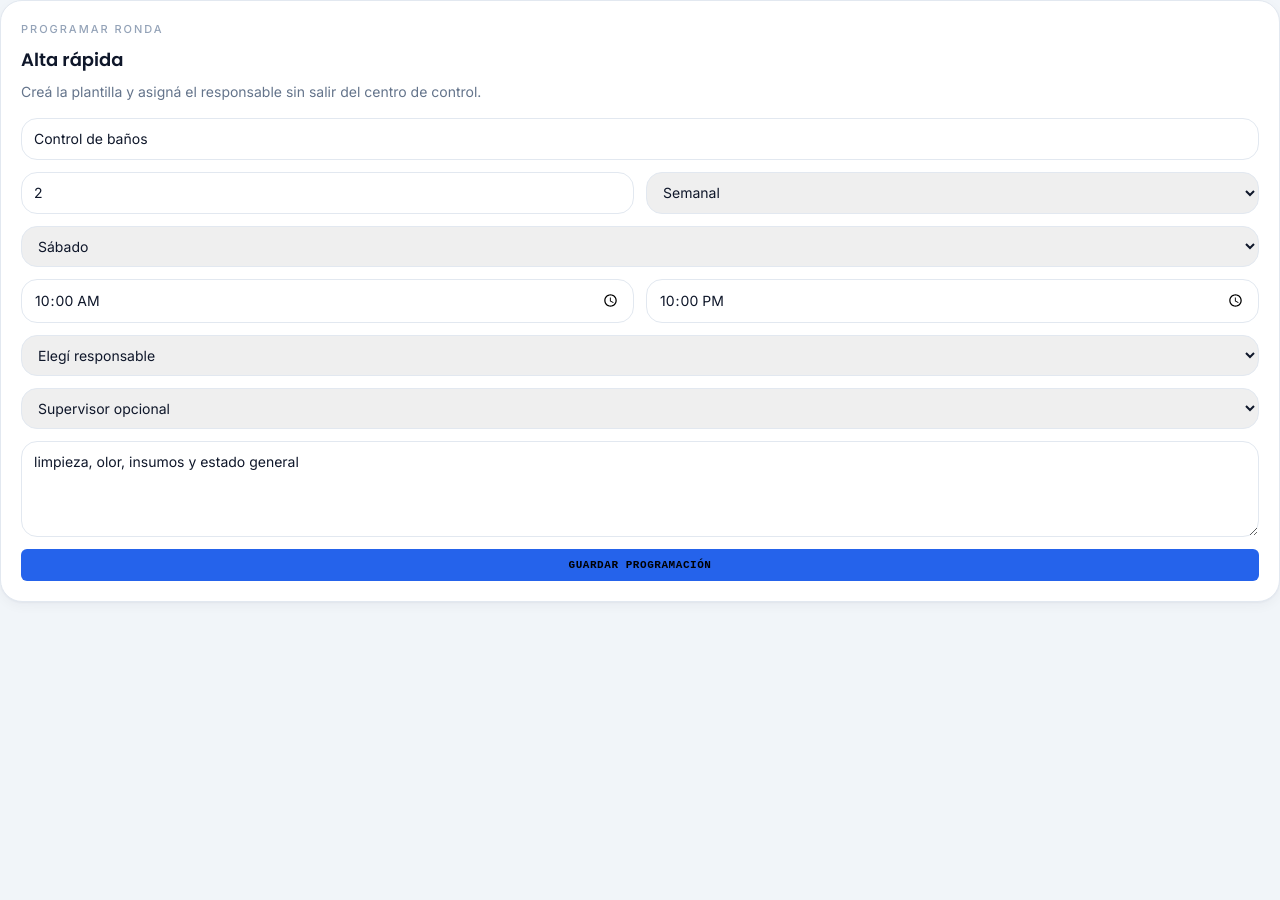
RoundsProgramForm › requires employee, start hour and end hour before submit
Click the button "Guardar programación": (640, 565) [21,548,1259,581]
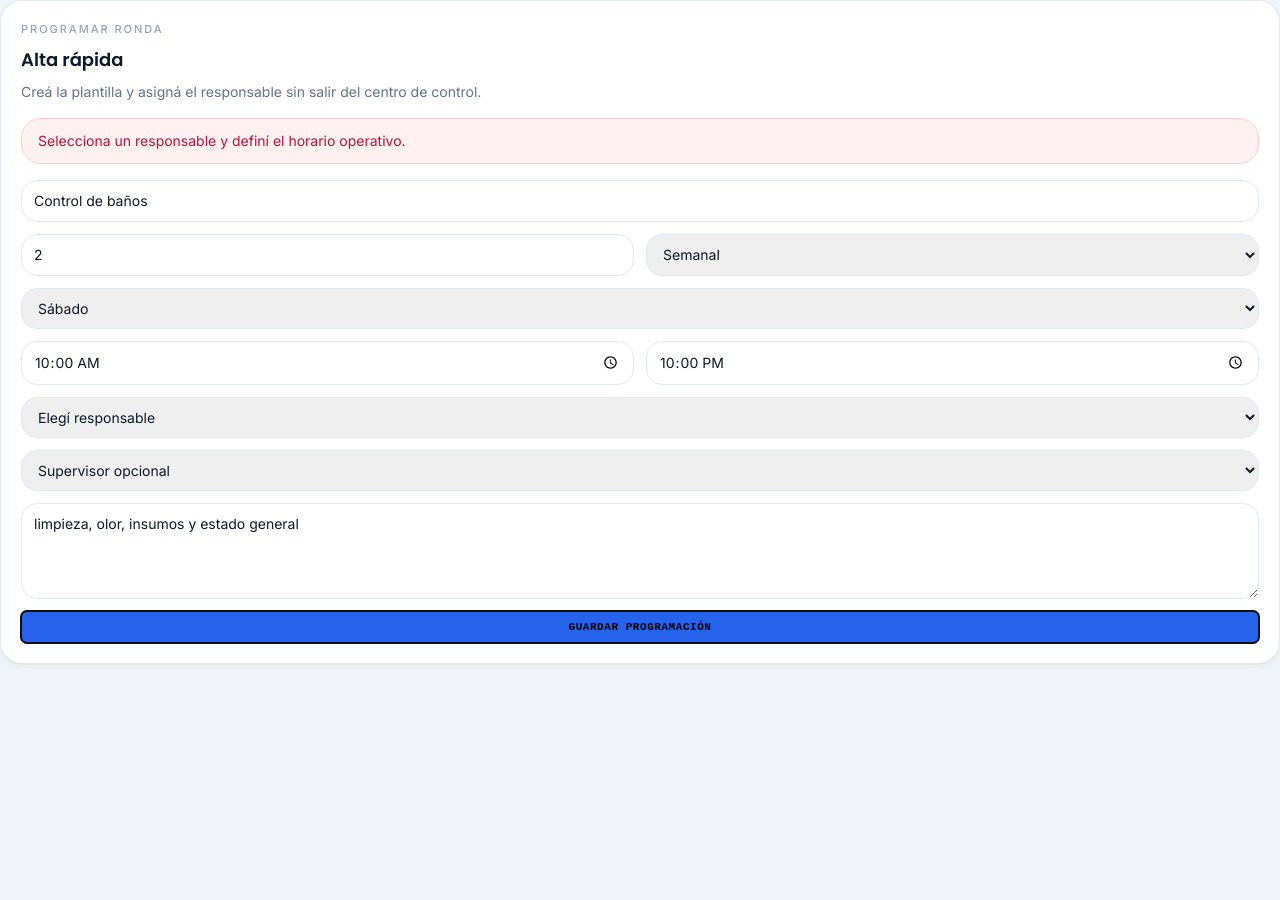
Result: the text "Selecciona un responsable y definí el horario operativo." is shown at [21,118,1259,164]
